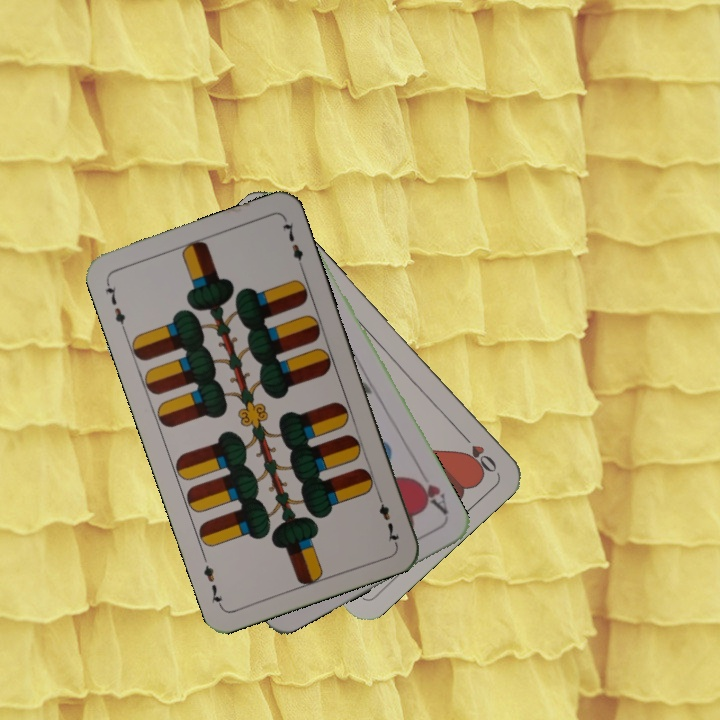E7: (373, 490, 402, 547), (102, 277, 129, 335)
HA: (408, 473, 451, 518)
HO: (455, 427, 500, 475)
